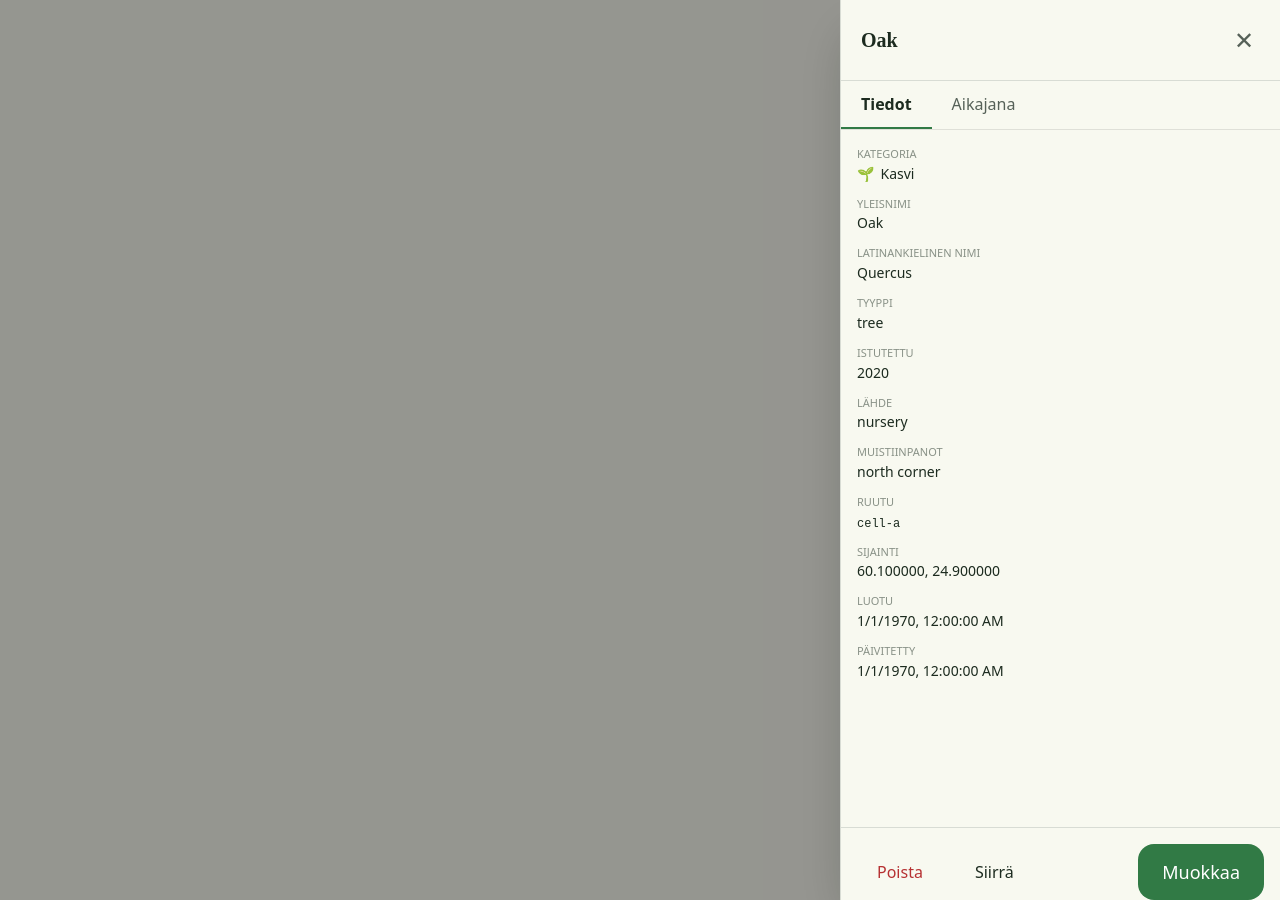
Test: PlantSheet timeline › shows the empty state with no photos
Click the button "Aikajana". click: (984, 105)
box: [932,81,1035,129]
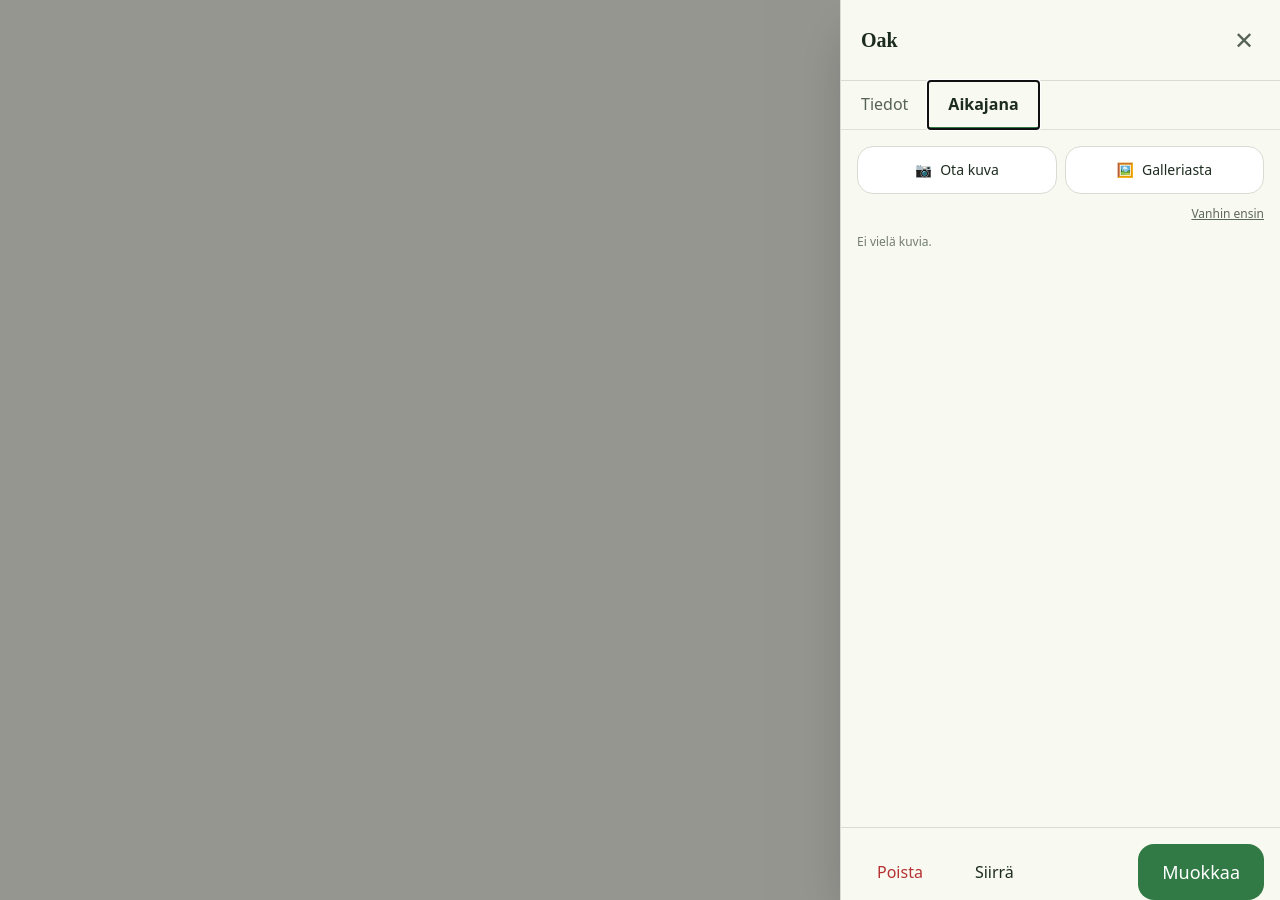
Check: the text "Ei vielä kuvia." is shown, box [857,233,932,250]
